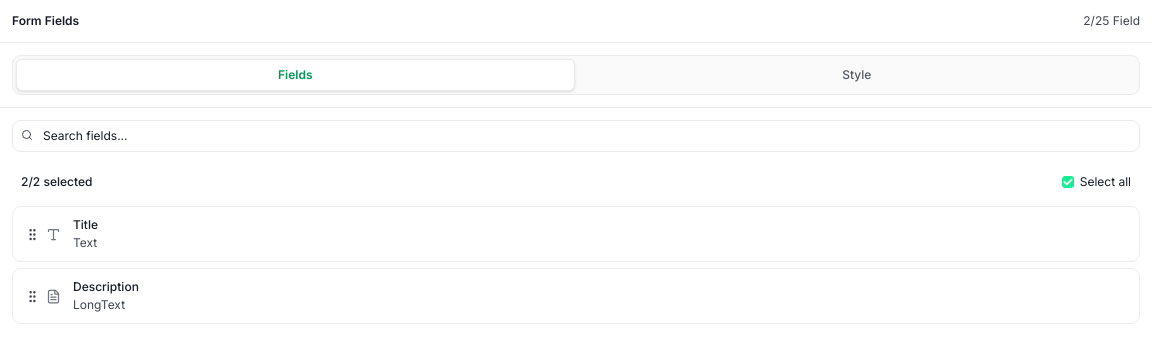
Test: RightPanel › Read-only mode › should show read-only message in Style tab when isReadOnly is true
Click the button "Style": click(857, 75) 578,59 -> 1136,91
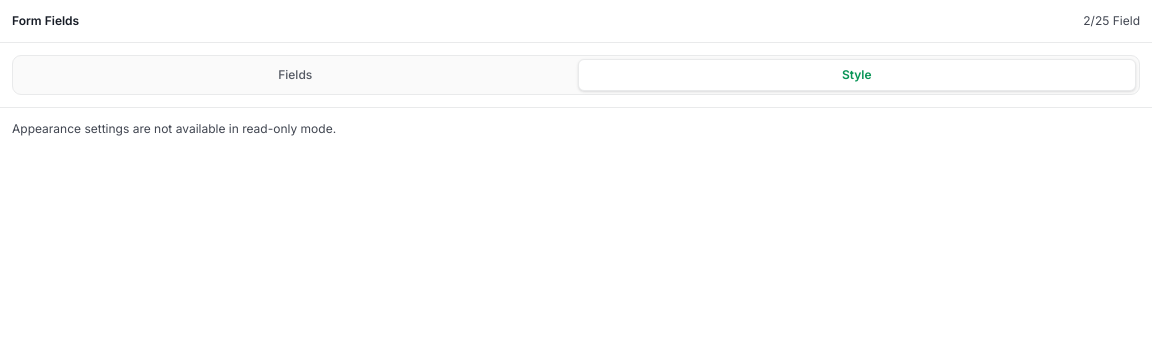
Expected: the text "Appearance settings are not available in read-only mode." is shown, 12,121 -> 336,136
